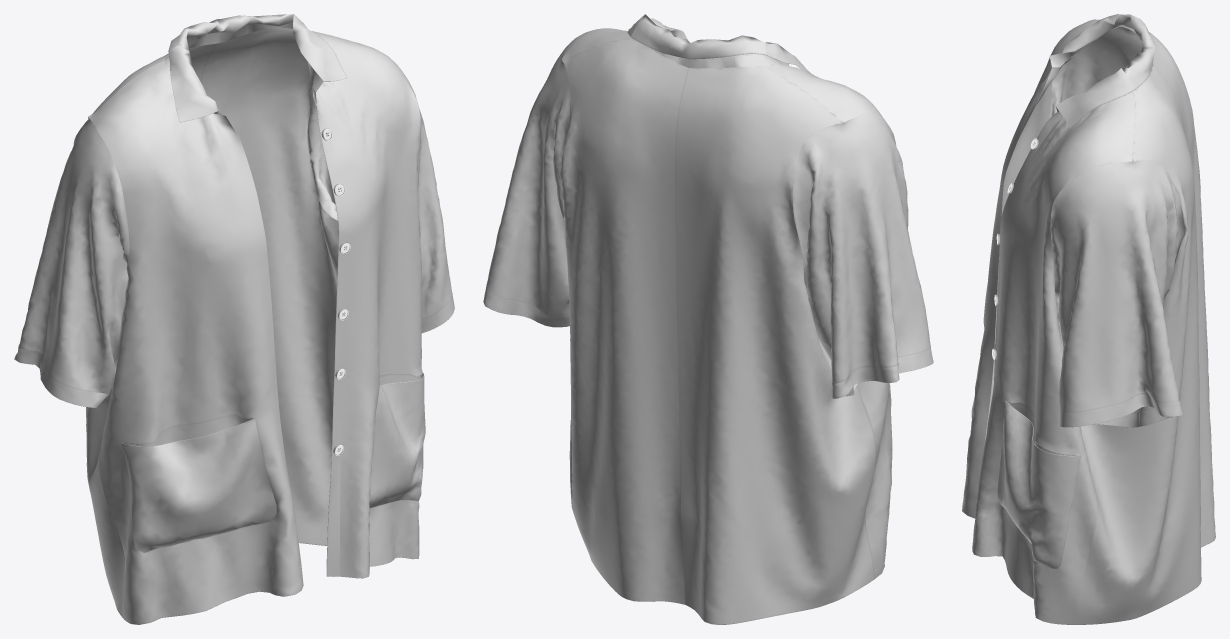
The model's file is FLG_121000.fbx.
3 renders of one model, left to right at view 1: azimuth 30°, elevation 25°; view 2: azimuth 150°, elevation 25°; view 3: azimuth 270°, elevation 25°, orthographic. The views are drawn at different scales.
Visible parts, largest first — view 1: FLG_121000; view 2: FLG_121000; view 3: FLG_121000.
Boxes of the visible parts, x1,y1,x2,y2 form: FLG_121000: (14, 14, 454, 624); FLG_121000: (483, 14, 933, 624); FLG_121000: (962, 14, 1215, 624).
Size of the model in its own units: 57.02 by 75.2 by 32.33.
